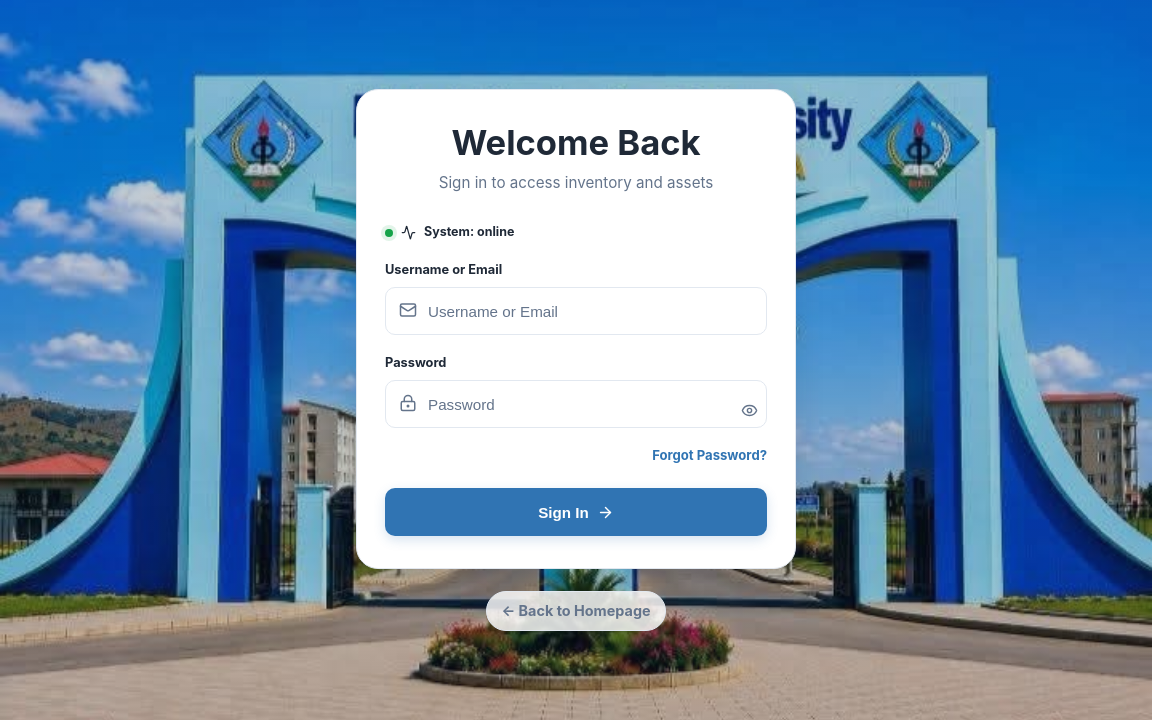
Scenario: Login error feedback › falls back to the localized invalid-credentials message when the API returns no error
Expected: the text "System: online" is shown, [385,223,514,242]
Type "admin" into the field labelled "Username or Email" at (576, 311), box [385,287,767,335]
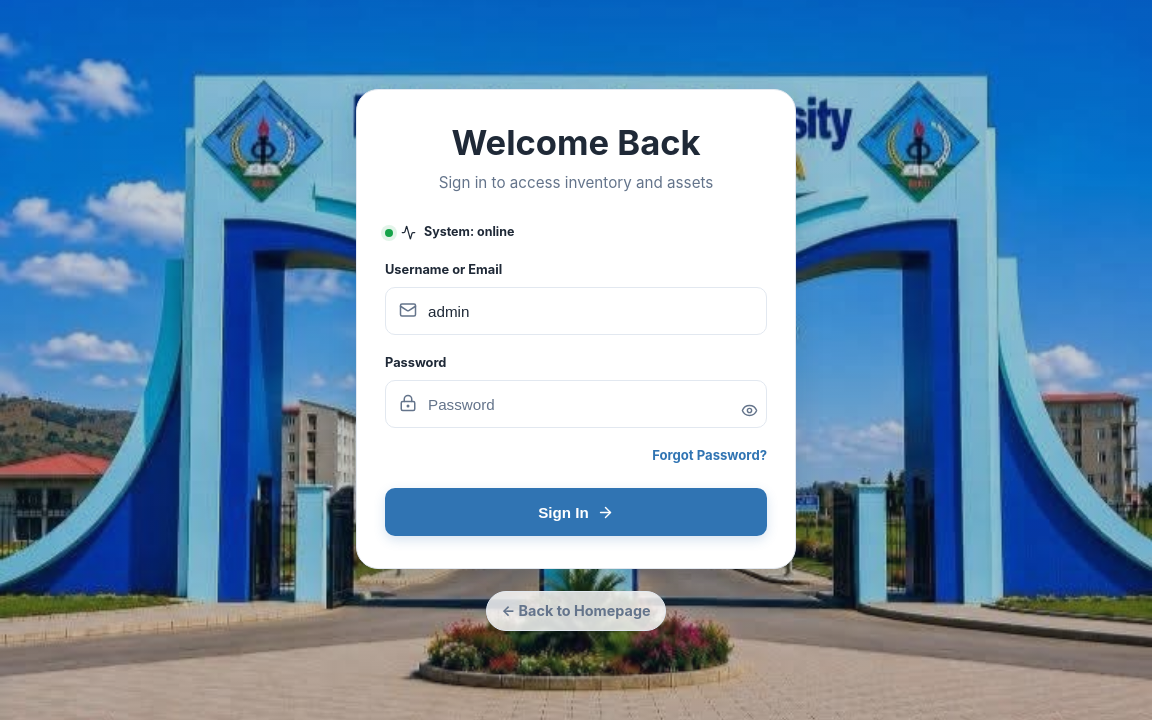
Type "not-shown" into the password field labelled "Password" at (576, 404), box [385,380,767,428]
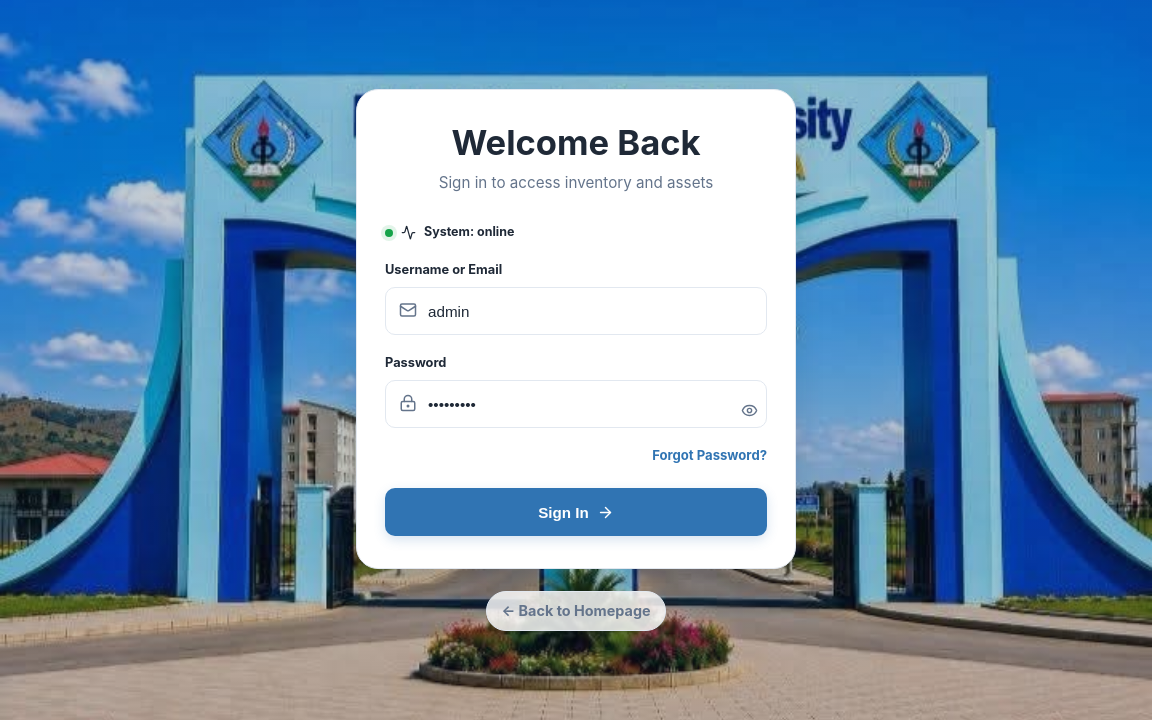
Click the button "Sign In" at (576, 512), box [385,488,767,536]
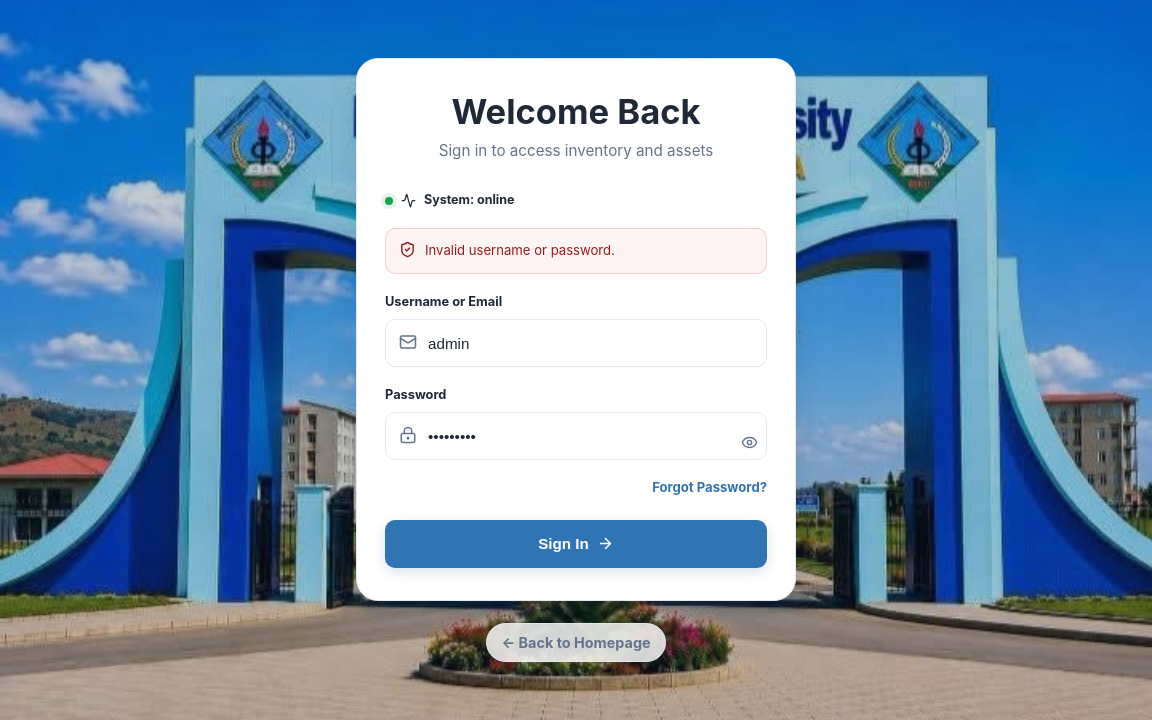
Now the message reads "Invalid username or password.", box [425,242,615,258]
